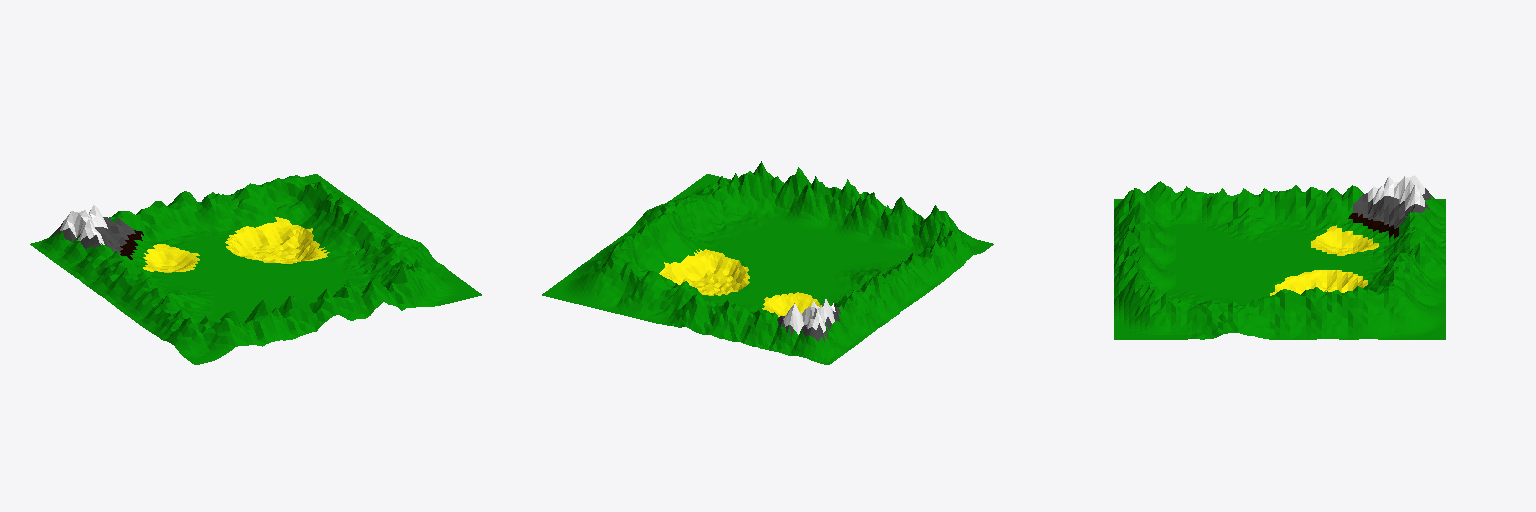
Rendered from largeterrain.obj.
3 views of the same model, side by side, from view 1: azimuth 30°, elevation 25°; view 2: azimuth 150°, elevation 25°; view 3: azimuth 270°, elevation 25° (orthographic).
Parts seen in each view (by area): view 1: Plane; view 2: Plane; view 3: Plane.
Part boxes in pixels (x1,y1,x2,y2): Plane: (30, 174, 481, 364); Plane: (542, 161, 993, 364); Plane: (1114, 175, 1445, 339).
Size of the model in its own units: 64 by 11.48 by 64.